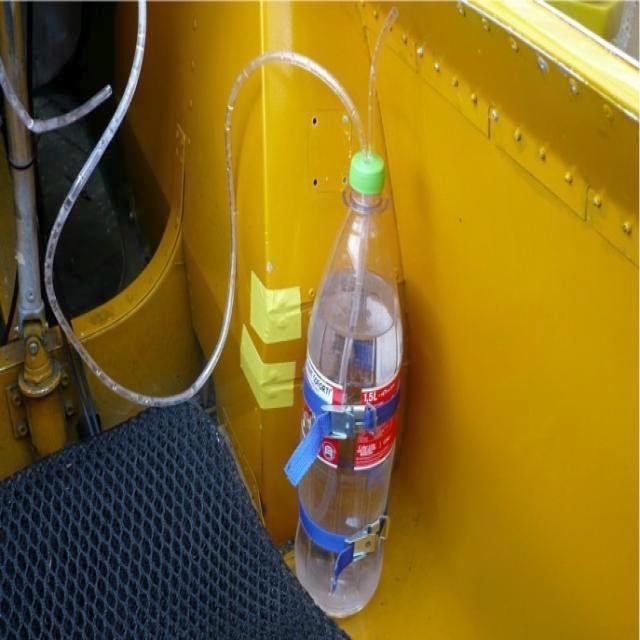bottle: (295, 153, 403, 618)
